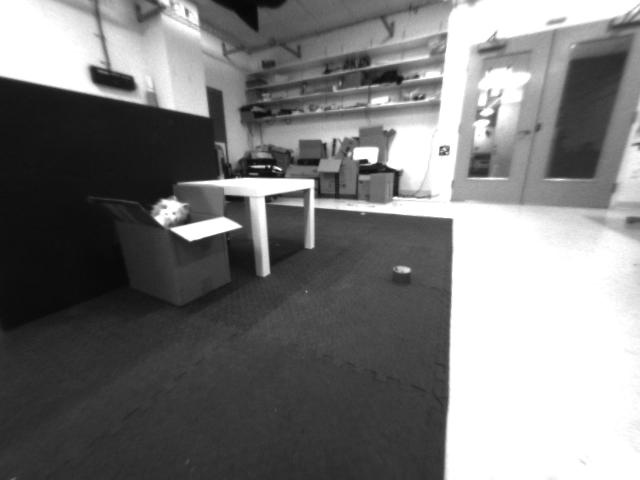dogtoy: (375, 252, 430, 299)
